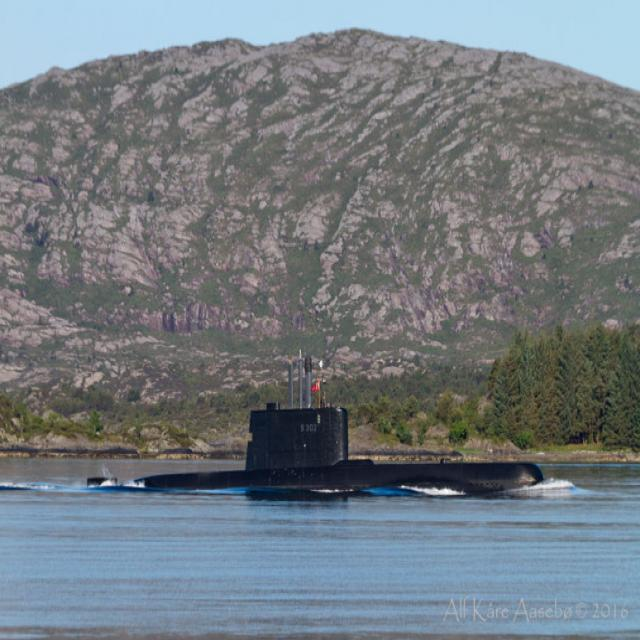submarine: (85, 352, 543, 491)
